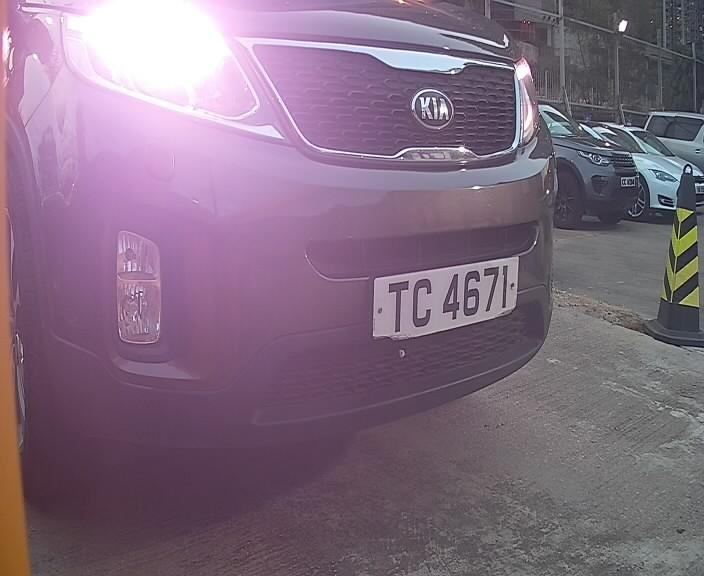privatecar: (9, 2, 573, 481)
